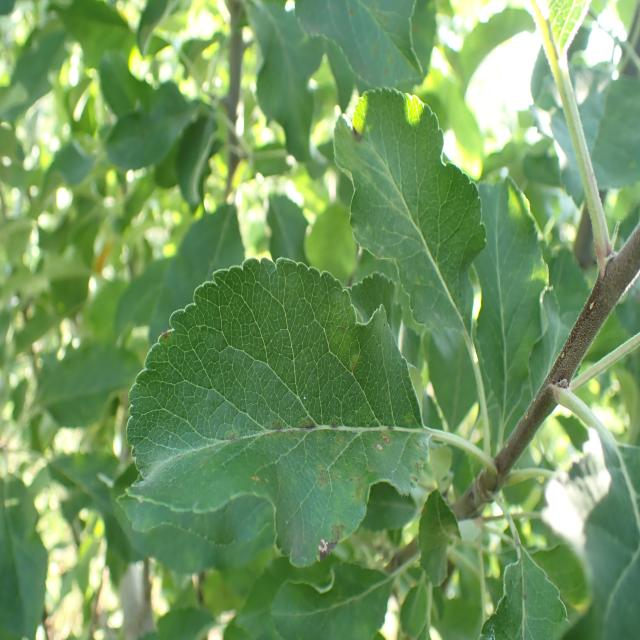scab: (189, 381, 439, 562)
